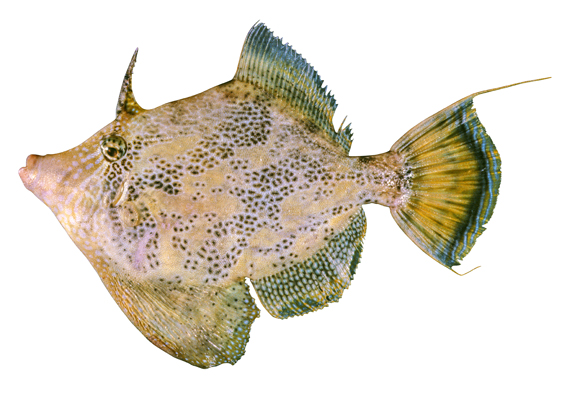fish: (18, 21, 502, 369)
